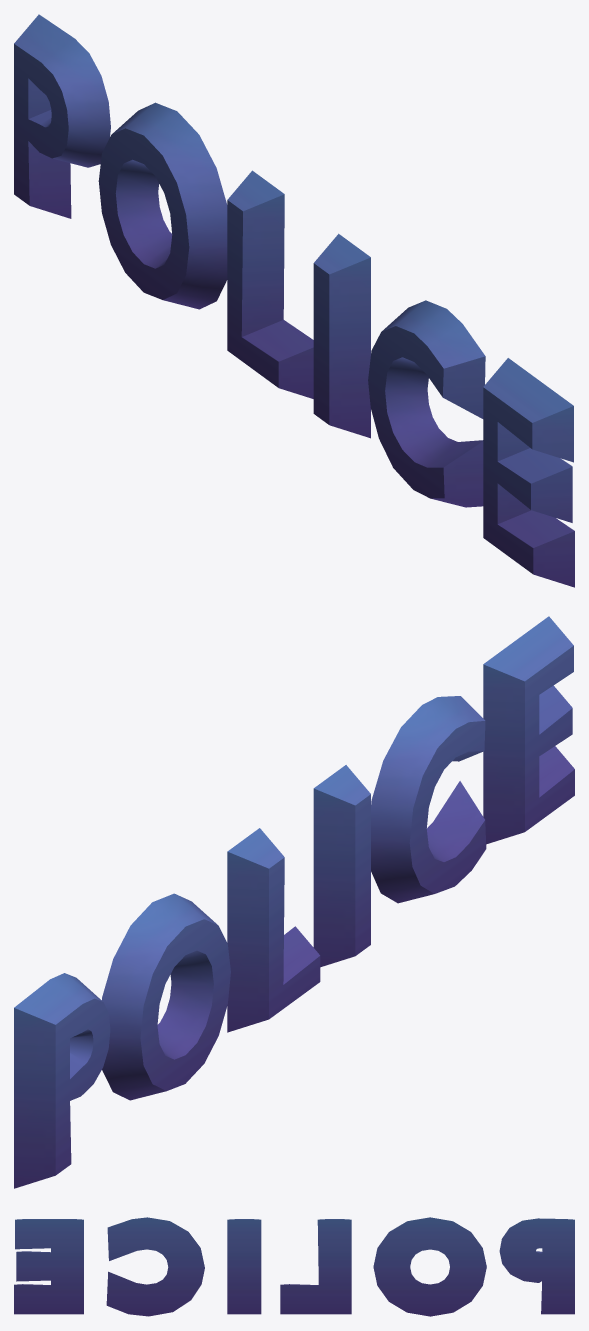
File: PoliceSign.fbx
3 renders of one model, top to bottom at view 1: azimuth 30°, elevation 25°; view 2: azimuth 150°, elevation 25°; view 3: azimuth 270°, elevation 25°, orthographic. The views are drawn at different scales.
Visible parts, largest first — view 1: PoliceSign; view 2: PoliceSign; view 3: PoliceSign.
Part boxes in pixels (x1,y1,x2,y2): PoliceSign: (14, 14, 574, 587); PoliceSign: (14, 616, 574, 1188); PoliceSign: (14, 1217, 574, 1316).
Bounding box in the file's own units: 33.77 × 184 × 941.
